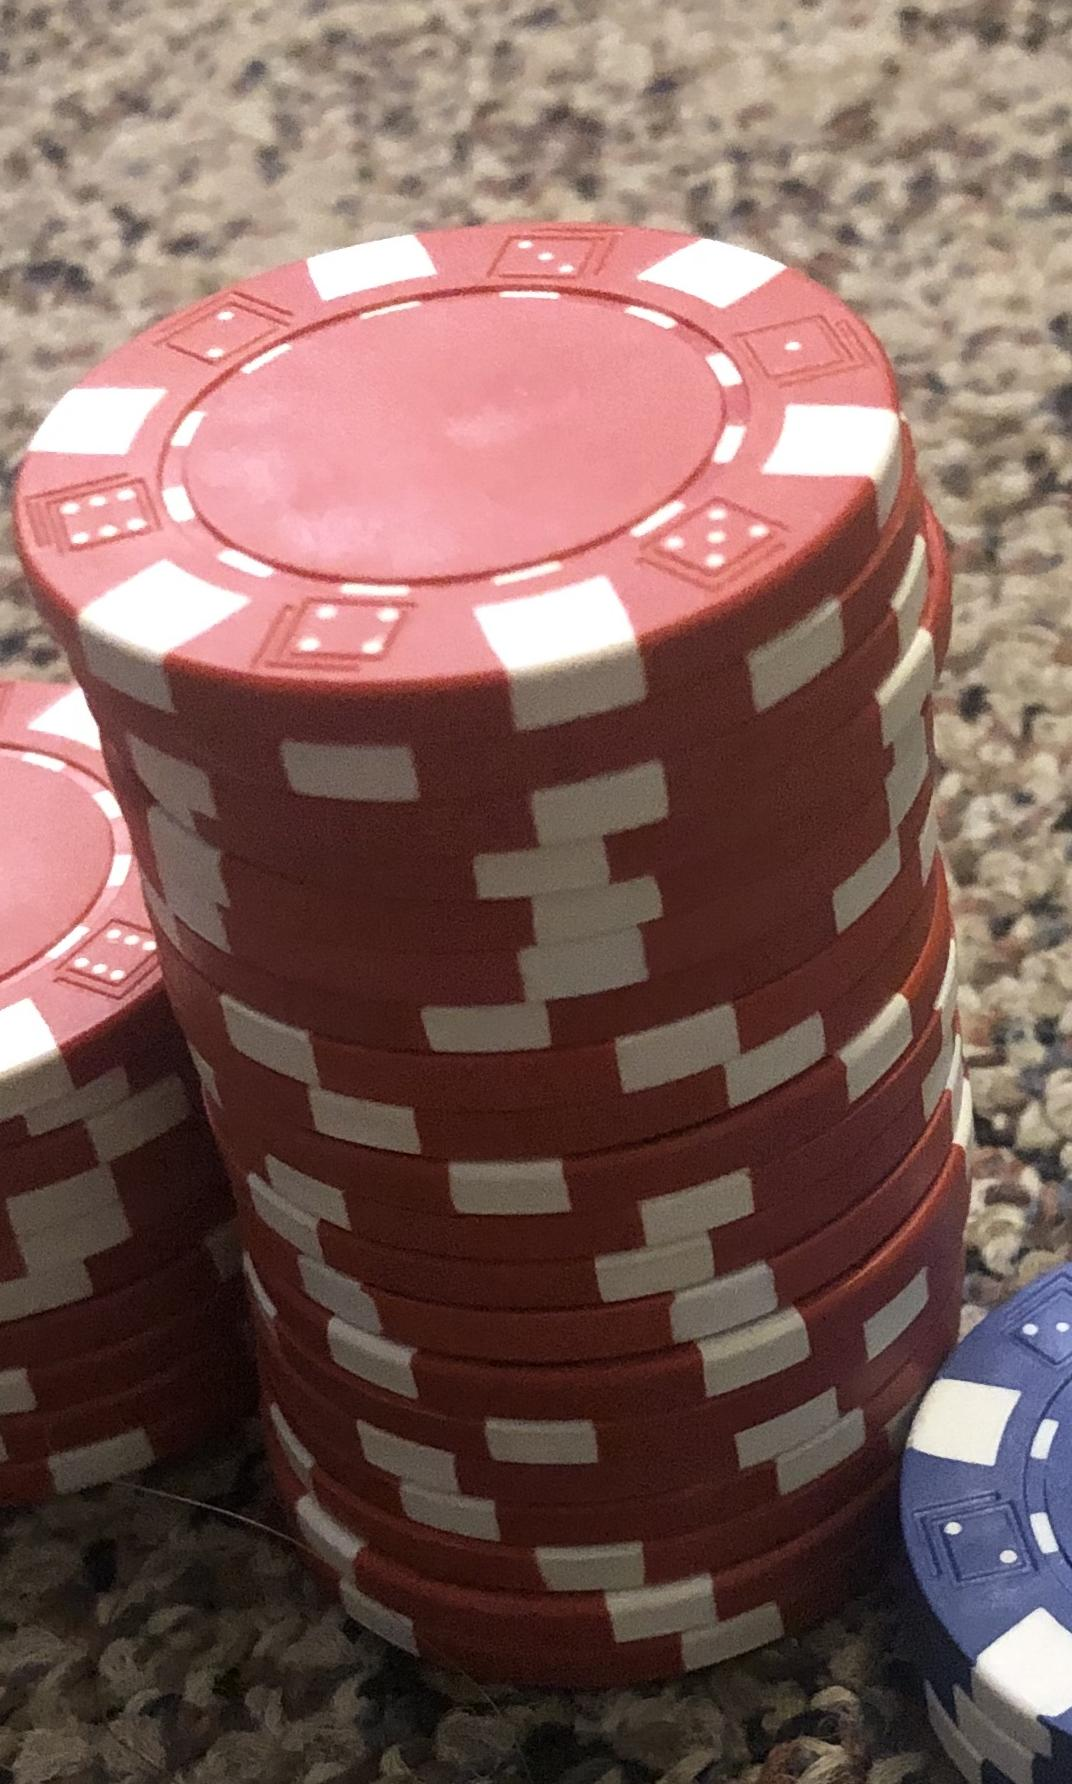Chip: (1, 1, 1072, 1784)
